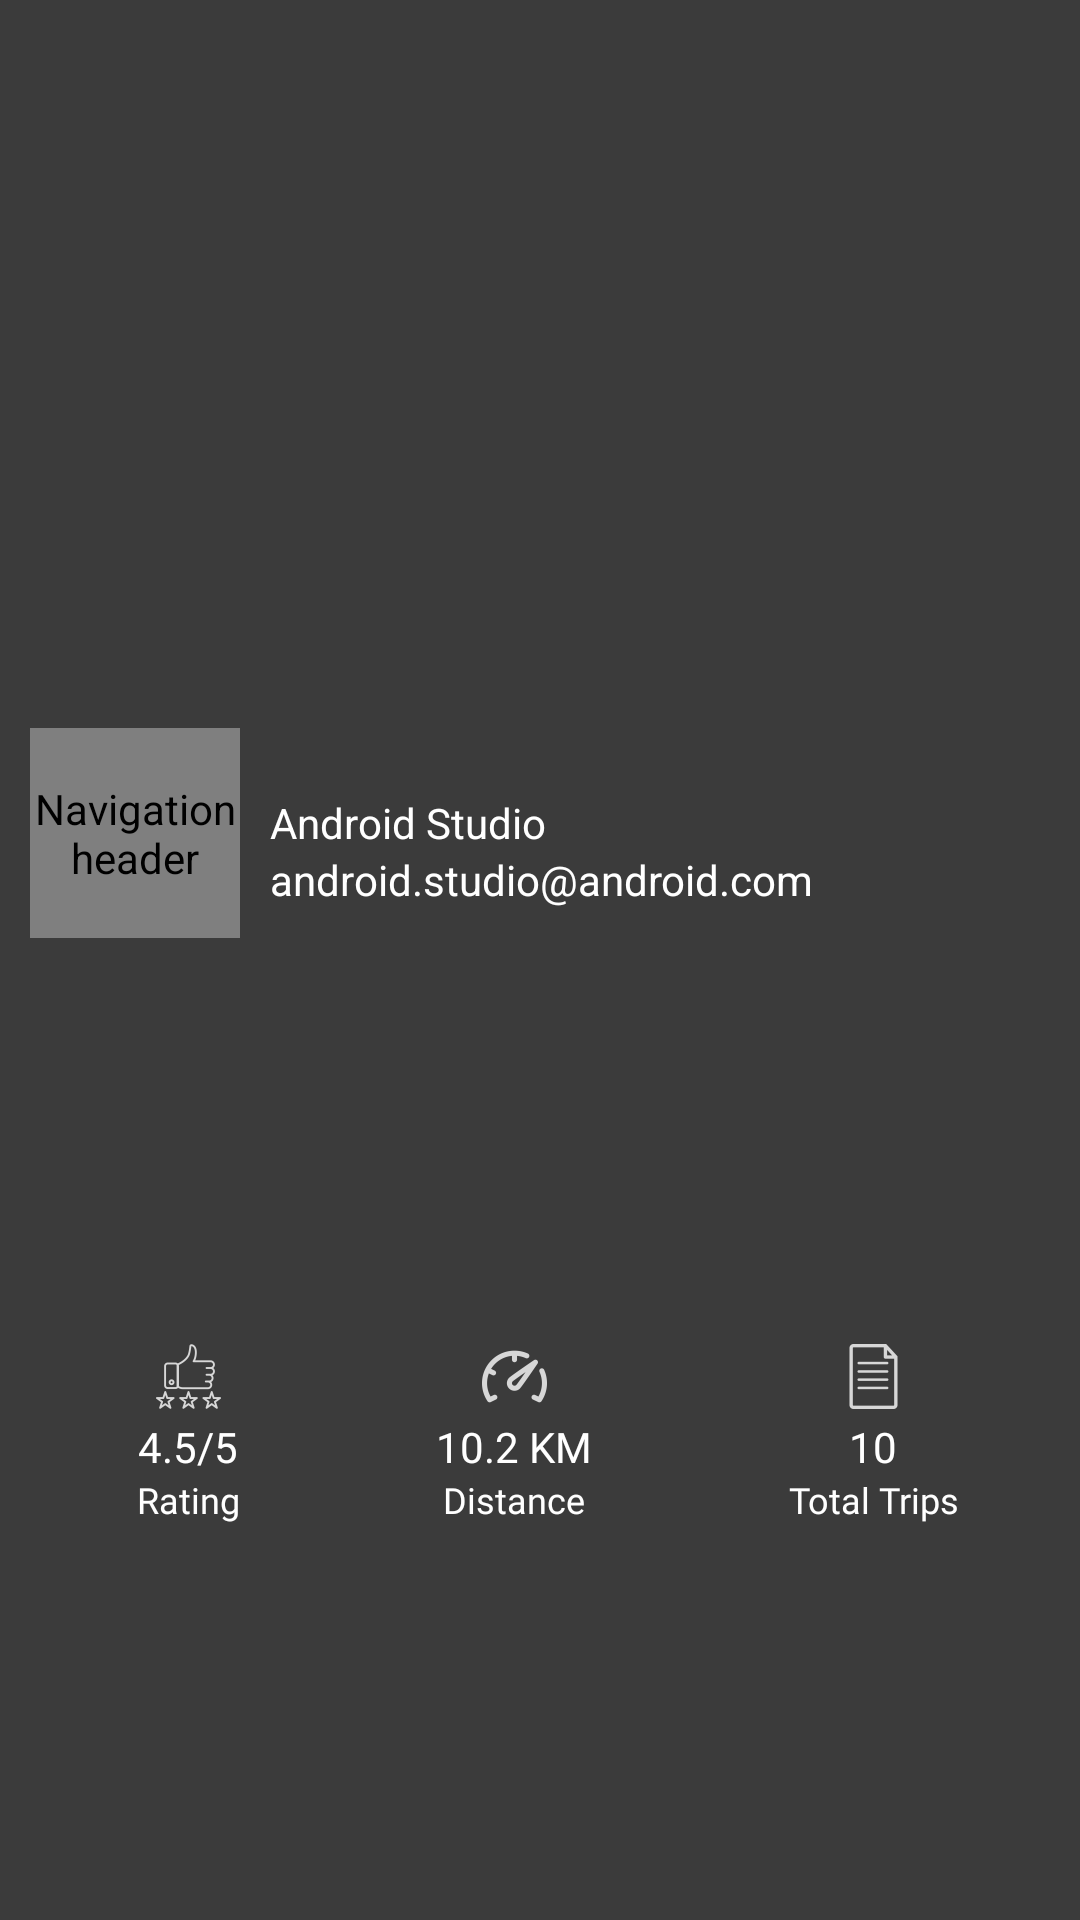

Where to tap for icons on this 1080 x 1920 app screen, as (x,y):
doc: (873,1376)
speed: (514,1376)
star: (188,1376)
